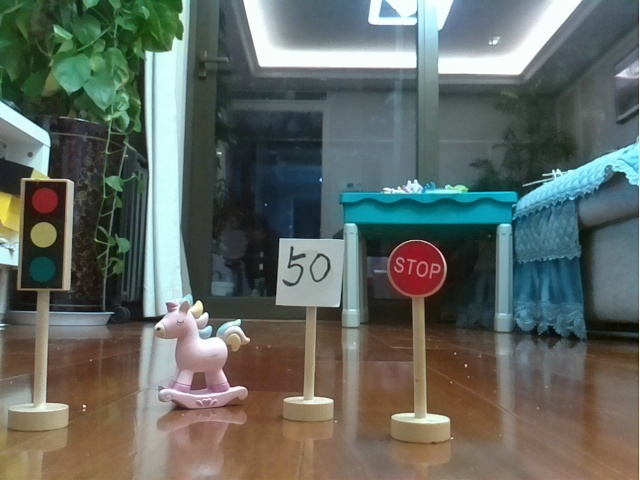Horse: (148, 290, 254, 414)
Red Traffic Light: (8, 171, 76, 436)
Speed Limit 50: (273, 231, 347, 424)
Stop Sign: (381, 236, 459, 448)
